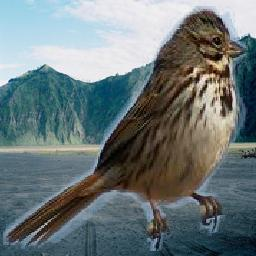Sparrow: (4, 7, 249, 252)
